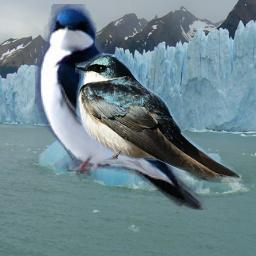Swallow: (35, 4, 223, 210), (75, 53, 241, 183)
